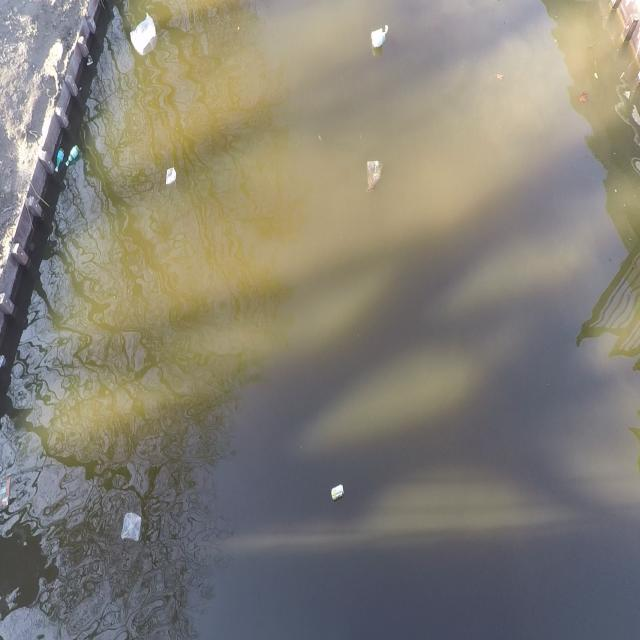Bouteille plastique: (65, 144, 79, 170), (56, 149, 64, 171)
Non plastique: (331, 484, 349, 504)
